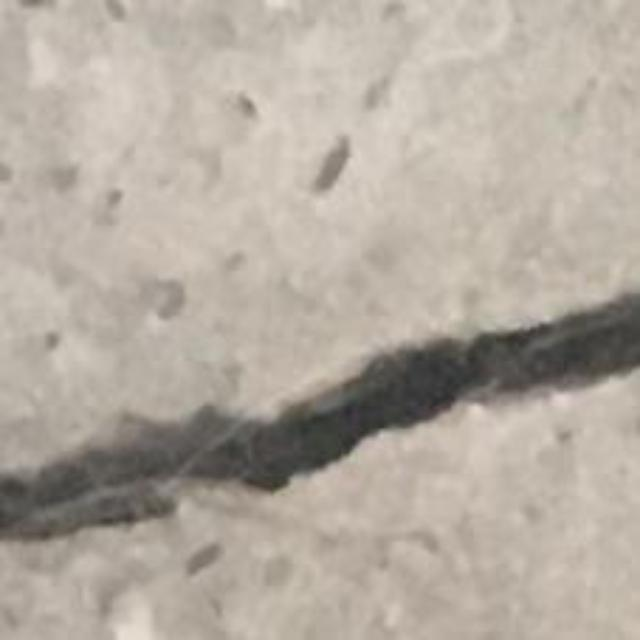crack: (0, 291, 639, 538)
